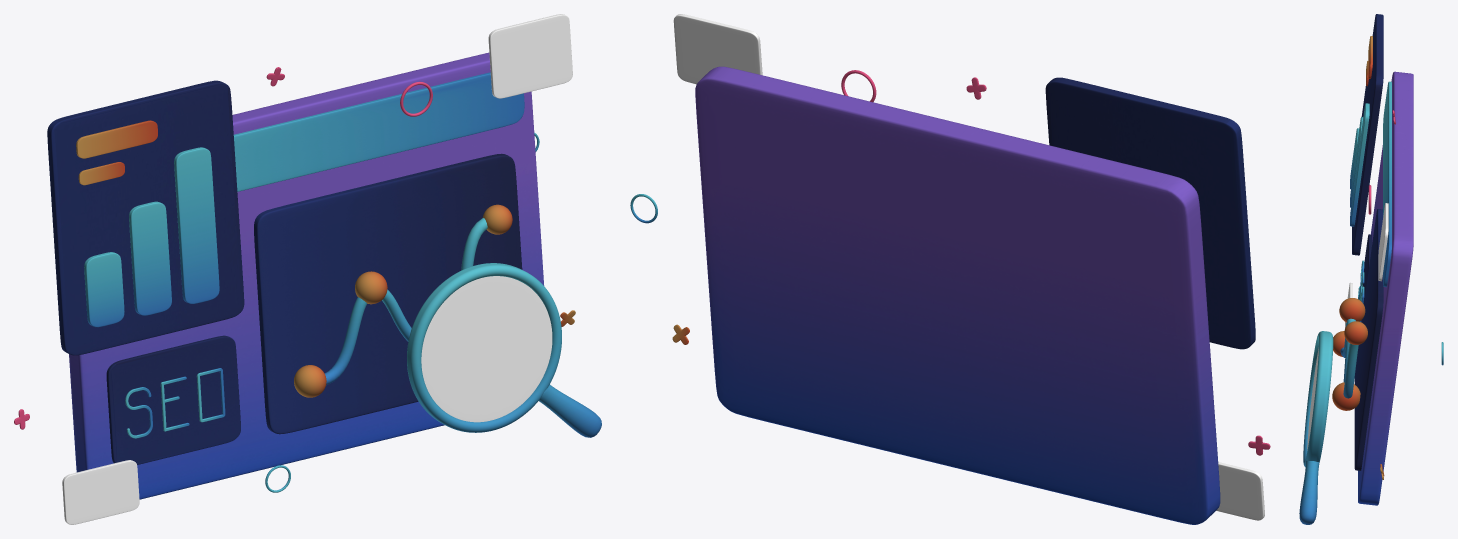
Rendered from seo-3d-animated-icon-1505318241611.glb.
3 views of the same model, side by side, from view 1: azimuth 30°, elevation 25°; view 2: azimuth 150°, elevation 25°; view 3: azimuth 270°, elevation 25° (orthographic). The views are drawn at different scales.
Visible parts, largest first — view 1: Cube.003, Cube, Graphic Frame, Cube.010, Cube.001, Cube.002, Chart Bar 3, Cube.005, Chart Bar 2, Cube.006, Chart Bar 1, NurbsPath.001 (+5 smaller); view 2: Cube, Graphic Frame, Cube.005, Cube.006; view 3: Cube, Cube.010, Cube.003, Graphic Frame, Cube.001, Chart Bar 3, NurbsPath.001, Sphere.001, Cube.005, Sphere, Sphere.002, Cube.002 (+3 smaller).
Part boxes in pixels (box(x1,y1,x2,y2)): Cube.003: box(254, 153, 522, 434); Cube: box(69, 52, 544, 499); Graphic Frame: box(47, 80, 244, 355); Cube.010: box(407, 263, 601, 437); Cube.001: box(233, 72, 524, 191); Cube.002: box(106, 335, 240, 464); Chart Bar 3: box(174, 147, 219, 303); Cube.005: box(488, 14, 572, 98); Chart Bar 2: box(129, 201, 171, 315); Cube.006: box(62, 460, 139, 524); Chart Bar 1: box(84, 252, 124, 327); NurbsPath.001: box(324, 218, 487, 385); Cube: box(695, 66, 1220, 524); Graphic Frame: box(1045, 77, 1255, 349); Cube.005: box(673, 14, 762, 84); Cube.006: box(1216, 462, 1264, 520); Cube: box(1358, 71, 1413, 505); Cube.010: box(1299, 331, 1333, 524); Cube.003: box(1354, 209, 1383, 470); Graphic Frame: box(1352, 14, 1383, 255); Cube.001: box(1383, 81, 1391, 287); Chart Bar 3: box(1350, 103, 1369, 226); NurbsPath.001: box(1340, 318, 1358, 398); Sphere.001: box(1332, 382, 1360, 410); Cube.005: box(1378, 203, 1388, 281); Sphere: box(1339, 298, 1365, 322); Sphere.002: box(1344, 321, 1367, 344); Cube.002: box(1361, 234, 1371, 321).
Size of the model in its own units: 6.61 by 4.53 by 1.84.
11 materials, 6 textured.
